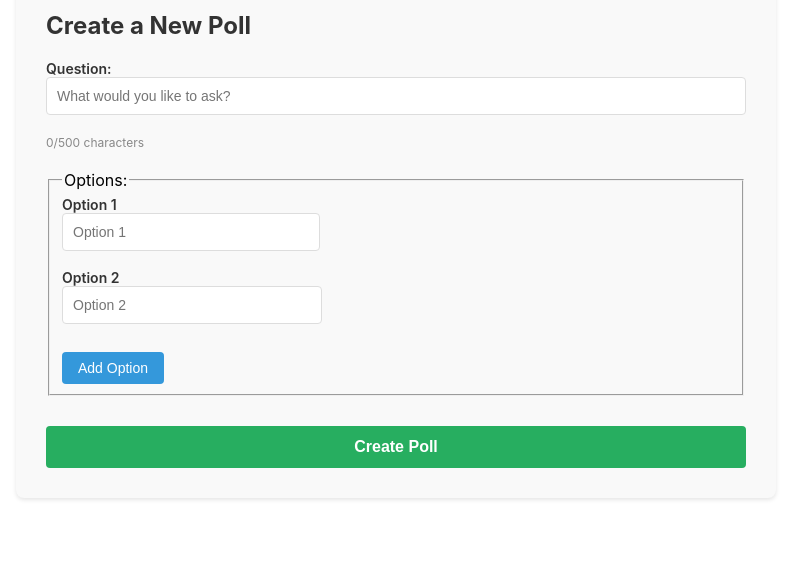
Test case: HostDashboard - Form Validation › validates minimum 2 options required
The image size is (793, 578).
Type "Test question?" into the field labelled "Question:" at (396, 96), box [46,77,746,115]
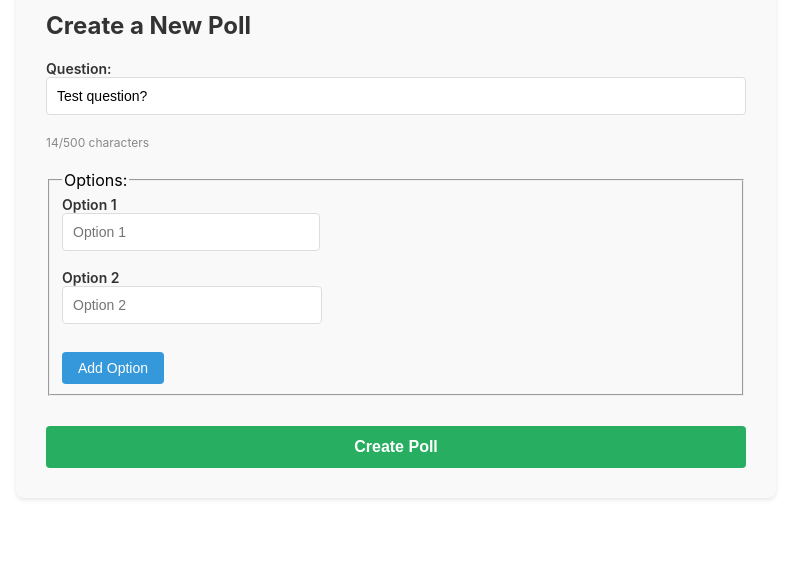
Type "Only one option" into the field with placeholder "Option 1" at (191, 232), box [62,212,320,250]
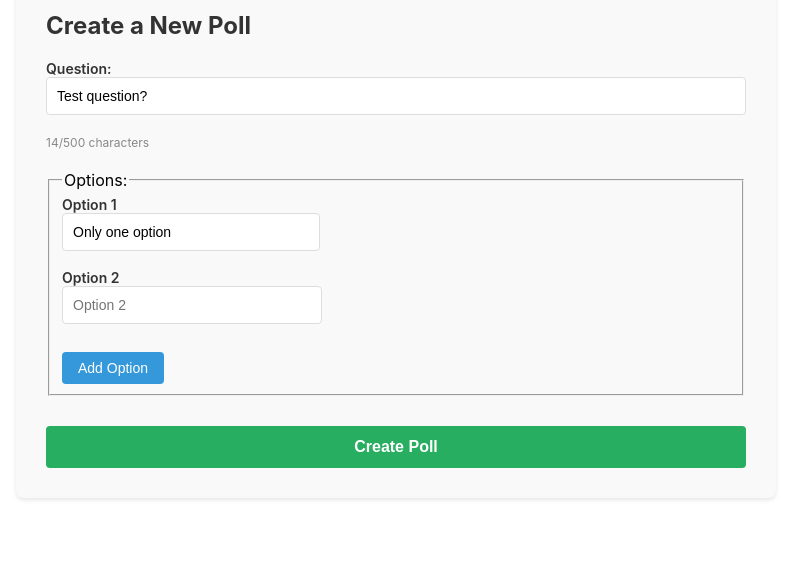
// Leave option 2 empty
Click the button "Create Poll" at (396, 446), box [46,426,746,468]
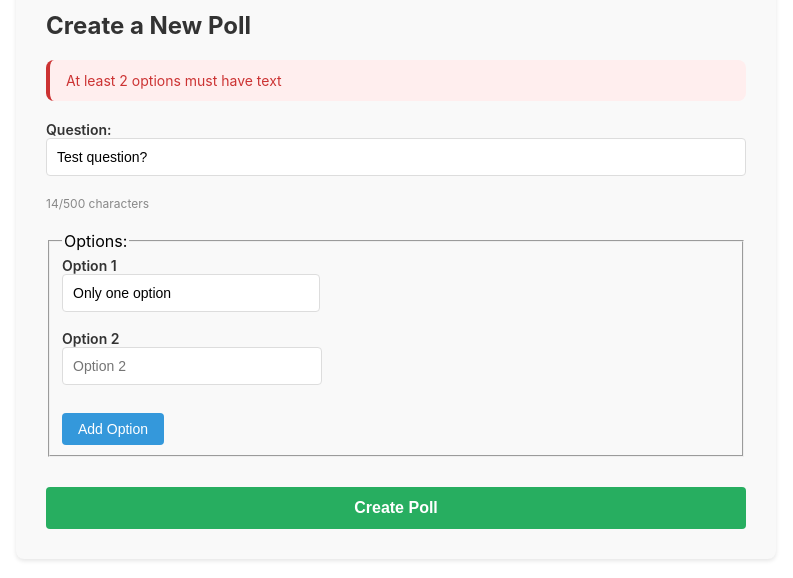
Expected: the text "At least 2 options must have text" is shown, [46,60,746,101]
